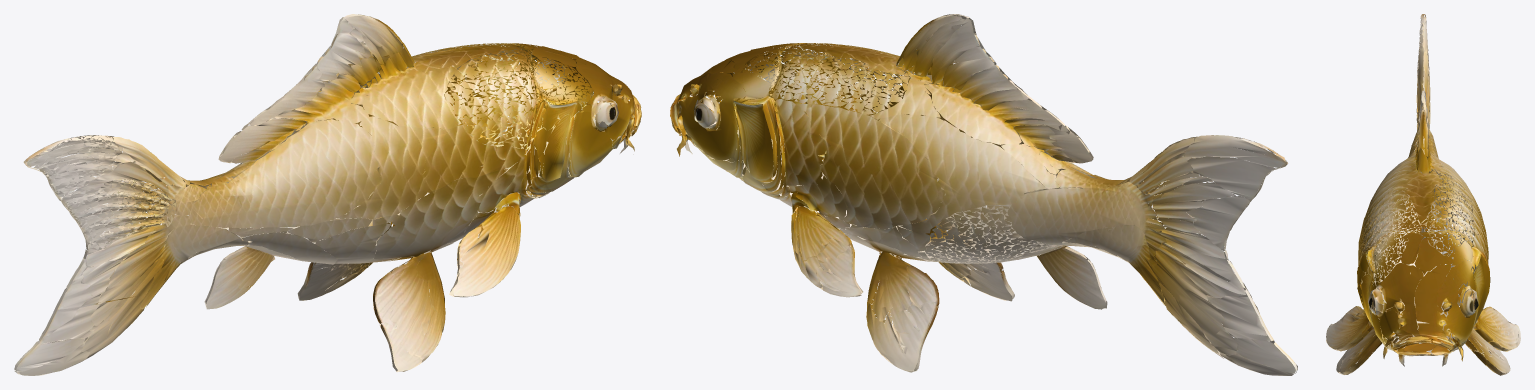
The model's file is koi_gold.glb.
The picture shows the model from 3 angles, left to right: view 1: azimuth 30°, elevation 25°; view 2: azimuth 150°, elevation 25°; view 3: azimuth 270°, elevation 25°; orthographic projection. The views are drawn at different scales.
Parts seen in each view (by area): view 1: node_0; view 2: node_0; view 3: node_0.
Part boxes in pixels (bbox=[...]): node_0: bbox=[14, 14, 641, 375]; node_0: bbox=[670, 14, 1297, 375]; node_0: bbox=[1326, 14, 1520, 375].
Size of the model in its own units: 1.13 by 0.5625 by 0.3601.
1 material, 1 textured.
